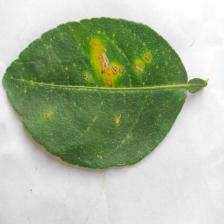canker: (70, 29, 162, 90)
